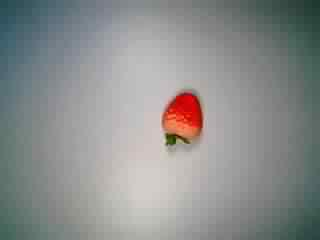strawberry: (147, 87, 215, 151)
